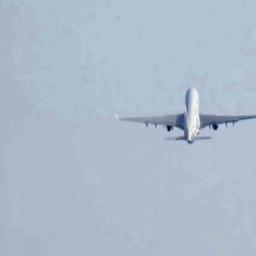Airplane: (114, 85, 256, 145)
